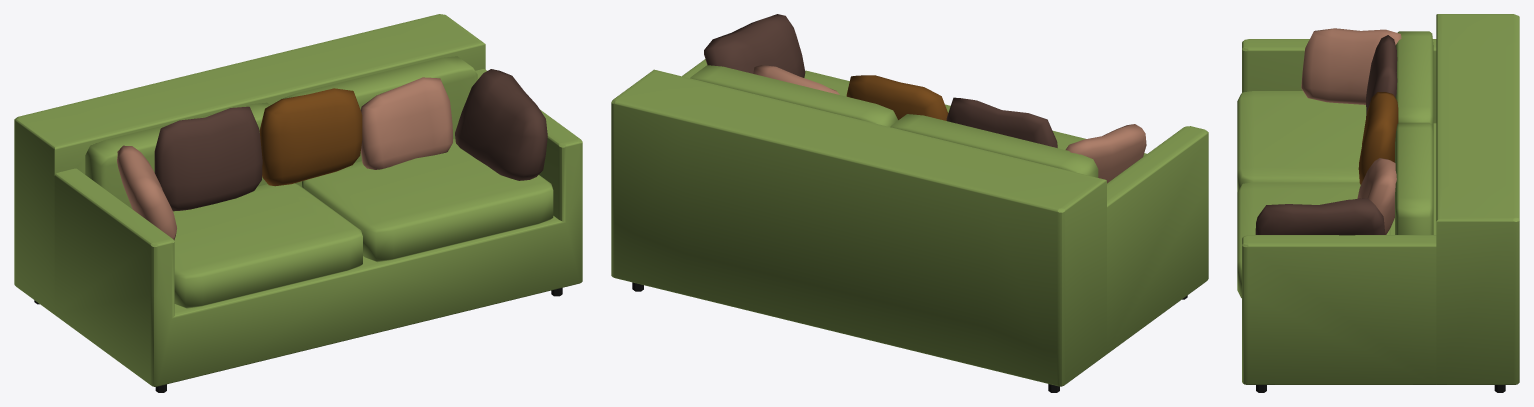
File: present_sofa.fbx
The picture shows the model from 3 angles, left to right: view 1: azimuth 30°, elevation 25°; view 2: azimuth 150°, elevation 25°; view 3: azimuth 270°, elevation 25°; orthographic projection. The views are drawn at different scales.
Visible parts, largest first — view 1: sofa, bottom cushions, pillows, back cushions; view 2: sofa, pillows, back cushions, bottom cushions; view 3: sofa, pillows, bottom cushions, back cushions.
Boxes of the visible parts, x1,y1,x2,y2 form: sofa: (14,14,582,386); bottom cushions: (173,138,553,308); pillows: (117,69,547,240); back cushions: (85,56,477,208); sofa: (611,59,1208,386); pillows: (704,14,1146,182); back cushions: (690,65,1098,177); bottom cushions: (804,70,1146,156); sofa: (1242,14,1519,384); pillows: (1255,28,1401,235); bottom cushions: (1237,91,1390,298); back cushions: (1395,31,1433,234).
Size of the model in its own units: 176 by 79.37 by 102.
